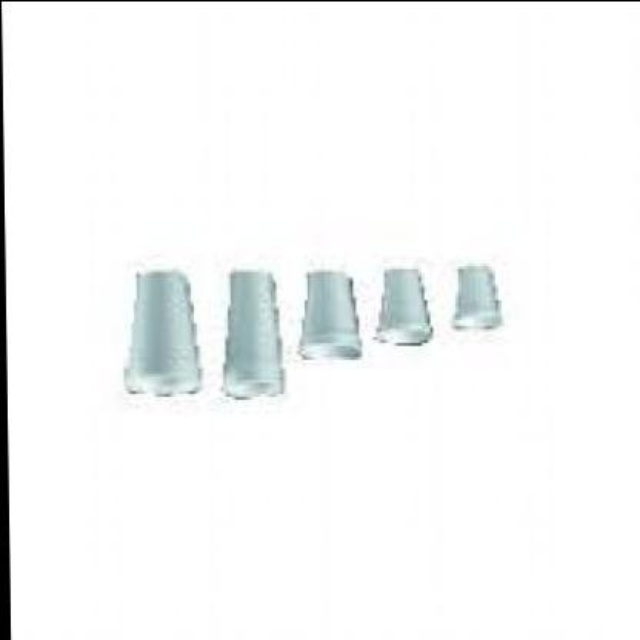trash: (125, 269, 200, 395), (125, 271, 198, 394), (223, 269, 283, 397), (223, 271, 282, 397), (298, 269, 360, 358), (300, 271, 360, 357), (377, 269, 431, 343), (454, 266, 500, 326)
